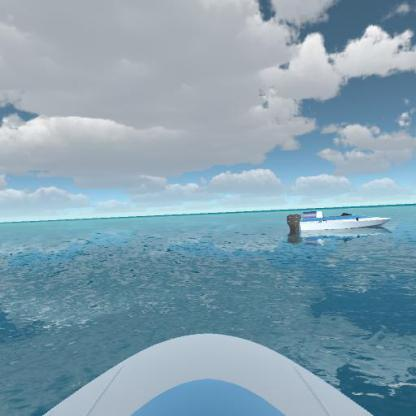usv1: (281, 205, 398, 240)
